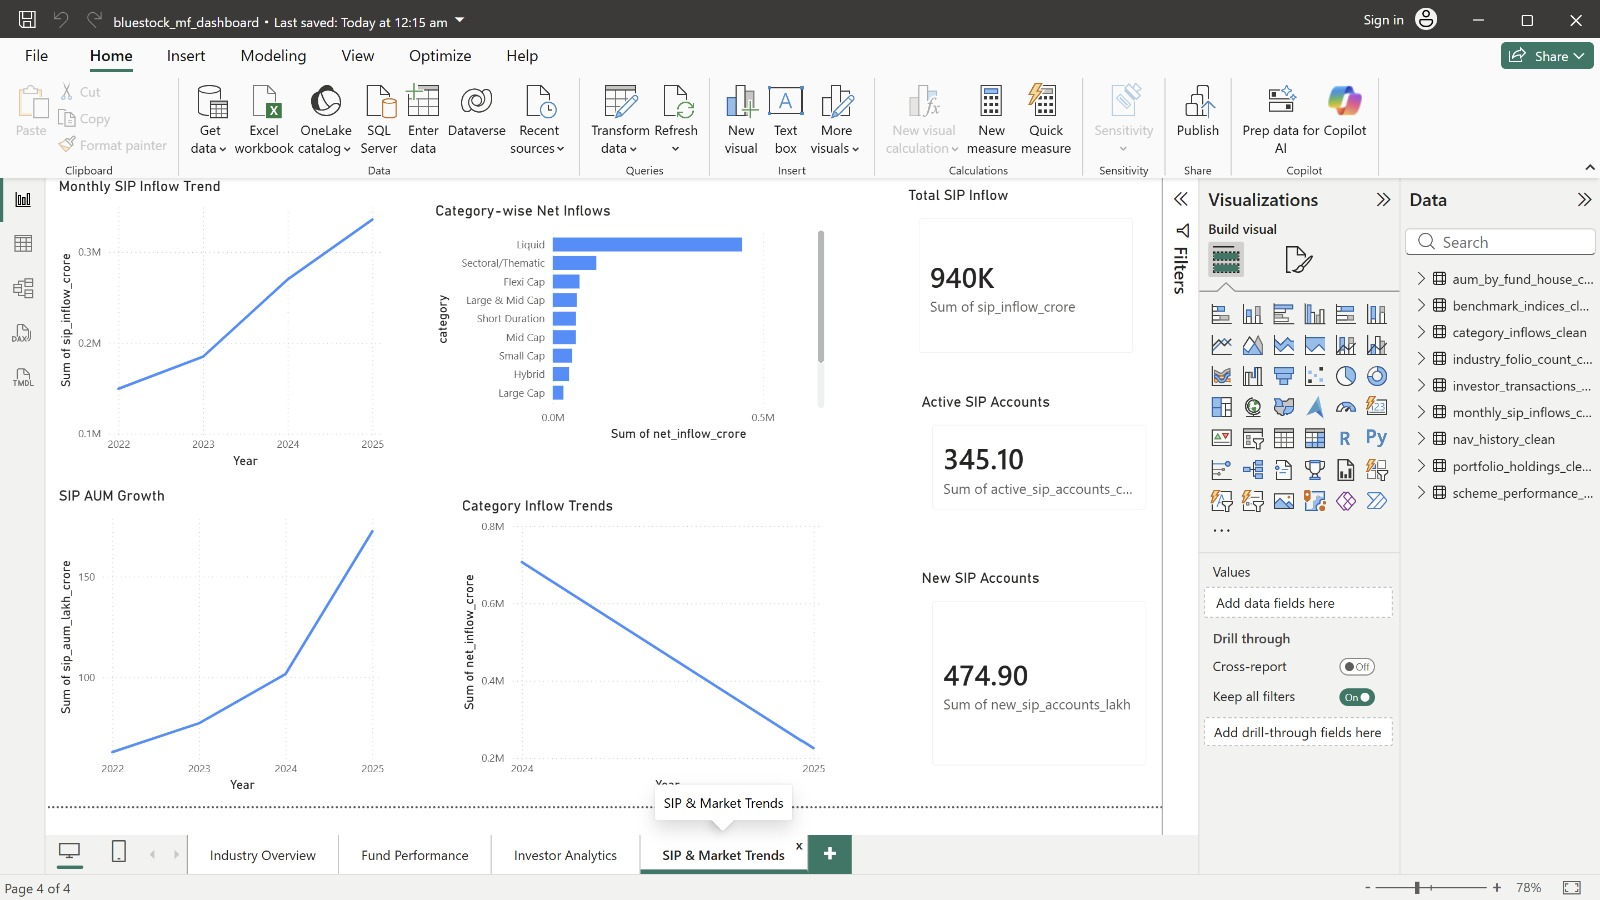

What the dashboard file says about the page in this screenshot:
{"tool":"powerbi","page":{"name":"SIP & Market Trends","canvas":[1280,720],"ordinal":3},"visuals":[{"type":"lineChart","title":"Monthly SIP Inflow Trend","fields":{"Category":["monthly_sip_inflows_clean.month.Variation.Date Hierarchy.Year","monthly_sip_inflows_clean.month.Variation.Date Hierarchy.Quarter","monthly_sip_inflows_clean.month.Variation.Date Hierarchy.Month","monthly_sip_inflows_clean.month.Variation.Date Hierarchy.Day"],"Y":["Sum(monthly_sip_inflows_clean.sip_inflow_crore)"]},"box":[10,0,382.9,337.1],"z":0},{"type":"lineChart","title":"SIP AUM Growth","fields":{"Category":["monthly_sip_inflows_clean.month.Variation.Date Hierarchy.Year","monthly_sip_inflows_clean.month.Variation.Date Hierarchy.Quarter","monthly_sip_inflows_clean.month.Variation.Date Hierarchy.Month","monthly_sip_inflows_clean.month.Variation.Date Hierarchy.Day"],"Y":["Sum(monthly_sip_inflows_clean.sip_aum_lakh_crore)"]},"box":[10,354.3,382.9,354.3],"z":1},{"type":"clusteredBarChart","title":"Category-wise Net Inflows","fields":{"Category":["category_inflows_clean.category"],"Y":["Sum(category_inflows_clean.net_inflow_crore)"]},"box":[442.9,28.6,455.7,278.6],"z":2},{"type":"lineChart","title":"Category Inflow Trends","fields":{"Category":["category_inflows_clean.month.Variation.Date Hierarchy.Year","category_inflows_clean.month.Variation.Date Hierarchy.Quarter","category_inflows_clean.month.Variation.Date Hierarchy.Month","category_inflows_clean.month.Variation.Date Hierarchy.Day"],"Y":["Sum(category_inflows_clean.net_inflow_crore)"]},"box":[472.9,365.7,425.7,342.9],"z":3},{"type":"cardVisual","title":"Total SIP Inflow","fields":{"Data":["Sum(monthly_sip_inflows_clean.sip_inflow_crore)"]},"box":[984.3,10,280,208.6],"z":4},{"type":"cardVisual","title":"Active SIP Accounts","fields":{"Data":["Sum(monthly_sip_inflows_clean.active_sip_accounts_crore)"]},"box":[1000,247.1,280,150],"z":5},{"type":"cardVisual","title":"New SIP Accounts","fields":{"Data":["Sum(monthly_sip_inflows_clean.new_sip_accounts_lakh)"]},"box":[1000,448.6,280,242.9],"z":6}]}

Visuals, with their boxes on the page's 1280x720 design canvas (x1, y1, x2, y2). These are canvas units, not pixel positions in the 1600x900 screenshot, which may show the page scaled, cropped or inside an application window:
"Monthly SIP Inflow Trend" lineChart: (10, 0, 393, 337)
"SIP AUM Growth" lineChart: (10, 354, 393, 709)
"Category-wise Net Inflows" clusteredBarChart: (443, 29, 899, 307)
"Category Inflow Trends" lineChart: (473, 366, 899, 709)
"Total SIP Inflow" cardVisual: (984, 10, 1264, 219)
"Active SIP Accounts" cardVisual: (1000, 247, 1280, 397)
"New SIP Accounts" cardVisual: (1000, 449, 1280, 692)
